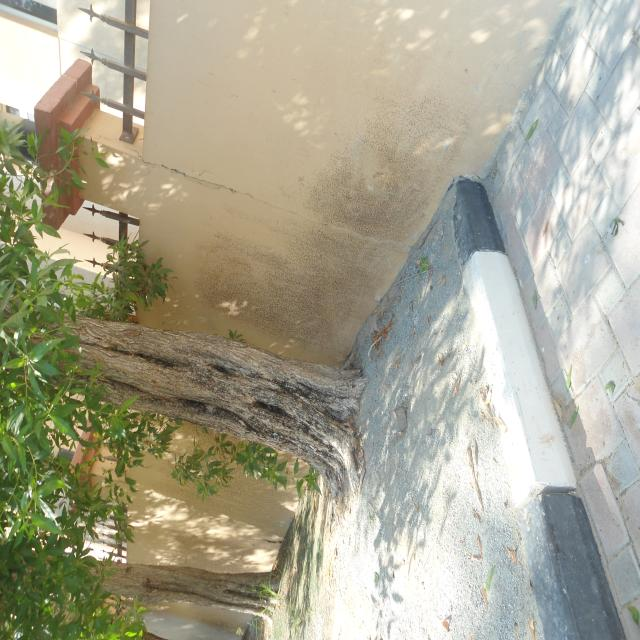tree-chair-bench-table-wall: (0, 128, 367, 638), (0, 131, 365, 640)
wall: (34, 0, 561, 367)
